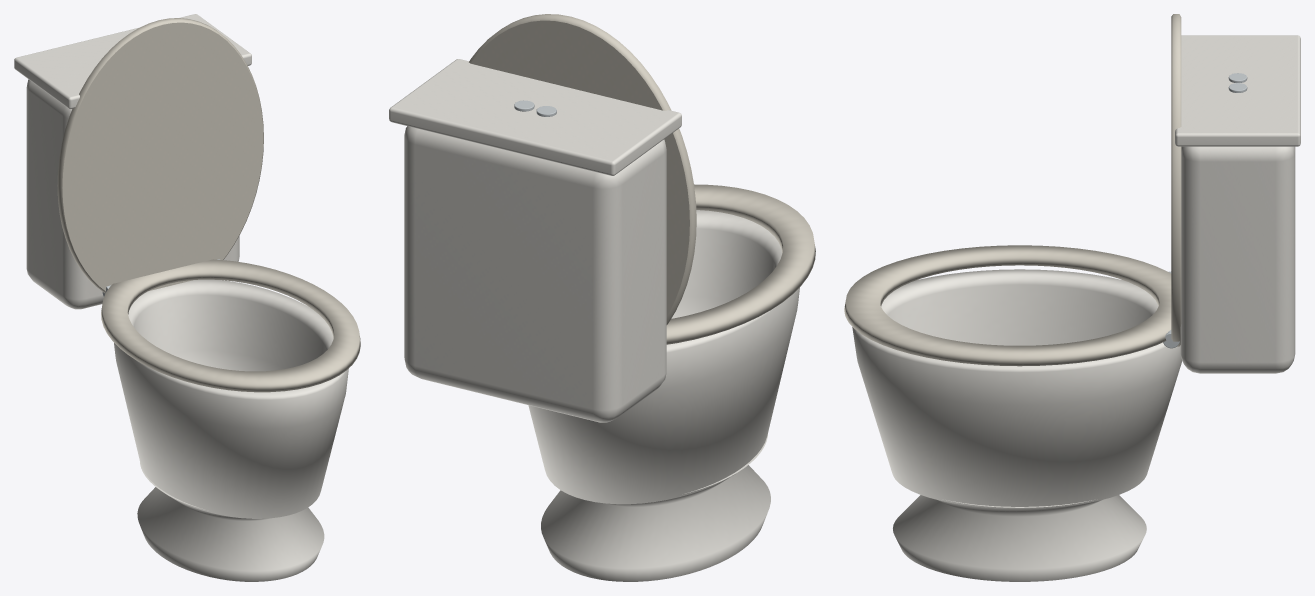
3 renders of one model, left to right at view 1: azimuth 30°, elevation 25°; view 2: azimuth 150°, elevation 25°; view 3: azimuth 270°, elevation 25°, orthographic. The views are drawn at different scales.
Parts seen in each view (by area): view 1: WC | raised lid, WC | open sanitary bowl, WC | separate seat ring, WC | ceramic pedestal, WC | rear cistern, WC | cistern cover; view 2: WC | rear cistern, WC | open sanitary bowl, WC | cistern cover, WC | ceramic pedestal, WC | raised lid, WC | separate seat ring; view 3: WC | open sanitary bowl, WC | rear cistern, WC | ceramic pedestal, WC | separate seat ring, WC | cistern cover, WC | raised lid.
Boxes of the visible parts, x1=… form: WC | raised lid: x1=57, y1=18, x2=263, y2=293; WC | open sanitary bowl: x1=114, y1=279, x2=348, y2=518; WC | separate seat ring: x1=101, y1=259, x2=360, y2=392; WC | ceramic pedestal: x1=137, y1=462, x2=324, y2=581; WC | rear cistern: x1=26, y1=79, x2=239, y2=309; WC | cistern cover: x1=14, y1=14, x2=251, y2=108; WC | rear cistern: x1=404, y1=126, x2=666, y2=422; WC | open sanitary bowl: x1=528, y1=210, x2=799, y2=504; WC | cistern cover: x1=389, y1=59, x2=681, y2=175; WC | ceramic pedestal: x1=541, y1=434, x2=770, y2=581; WC | raised lid: x1=469, y1=14, x2=696, y2=324; WC | separate seat ring: x1=666, y1=184, x2=815, y2=344; WC | open sanitary bowl: x1=852, y1=269, x2=1181, y2=508; WC | rear cistern: x1=1180, y1=146, x2=1295, y2=373; WC | ceramic pedestal: x1=893, y1=495, x2=1146, y2=581; WC | separate seat ring: x1=844, y1=245, x2=1171, y2=366; WC | cistern cover: x1=1175, y1=35, x2=1300, y2=146; WC | raised lid: x1=1171, y1=14, x2=1181, y2=346.
Size of the model in its own units: 0.432 by 0.9322 by 0.7411.
3 materials, 3 textured.
